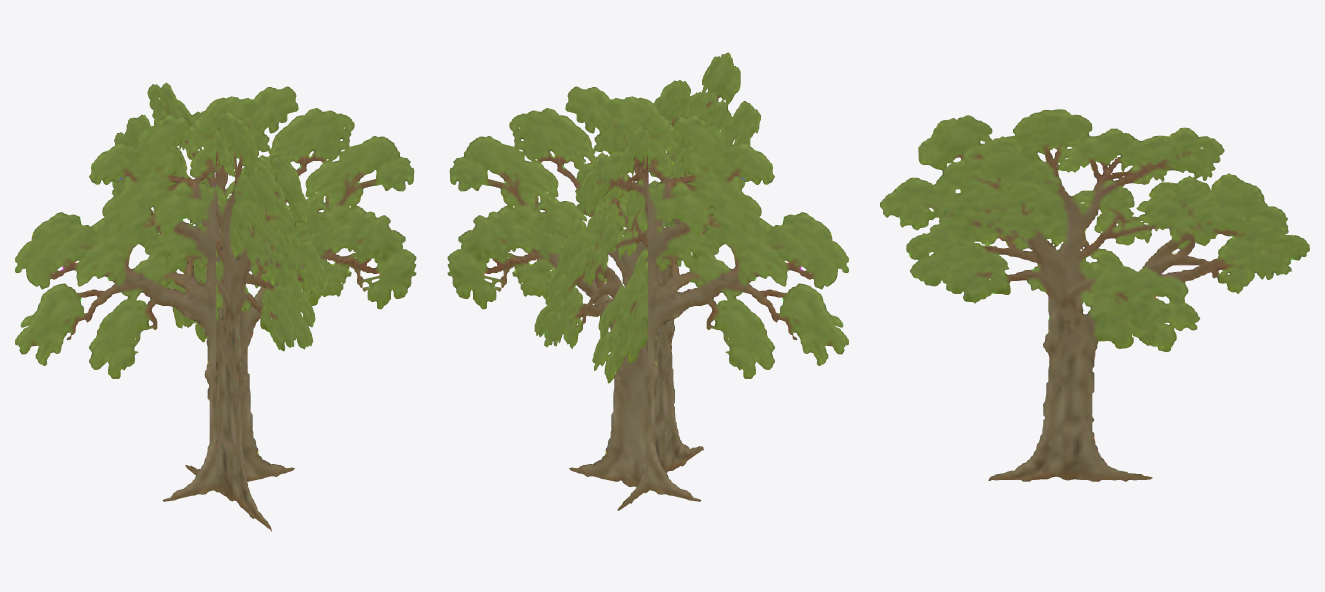
The model's file is tree-10-far.glb.
3 renders of one model, left to right at view 1: azimuth 30°, elevation 25°; view 2: azimuth 150°, elevation 25°; view 3: azimuth 270°, elevation 25°, orthographic. The views are drawn at different scales.
Bounding box in the file's own units: 0.9995 × 0.9399 × 0.9771.
Materials: 1 (1 with a texture image).
